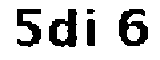5: (10, 3, 44, 50)
6: (113, 4, 151, 50)
d: (46, 6, 80, 50)
i: (83, 7, 104, 49)
